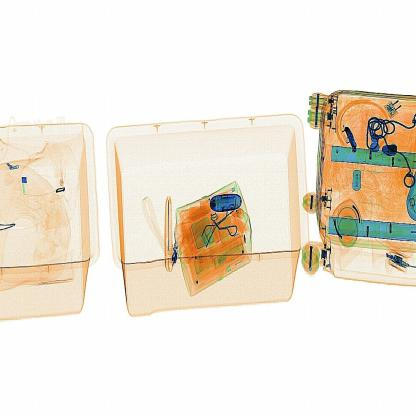pliers: (162, 191, 174, 276)
